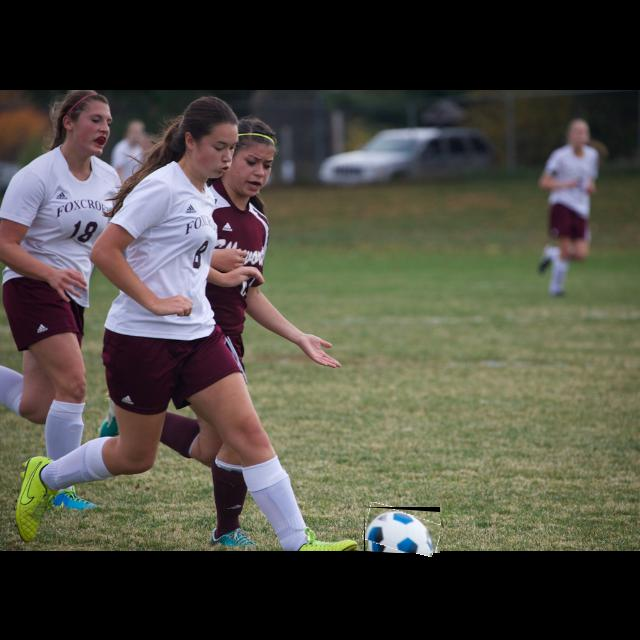Football: (364, 507, 440, 553)
